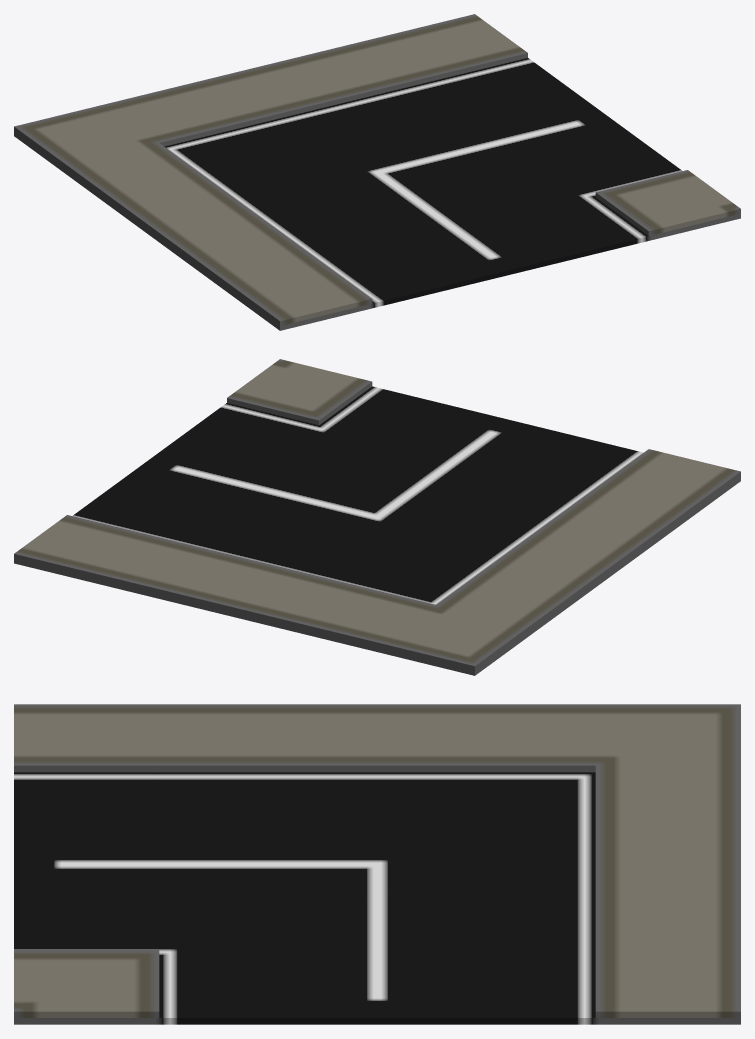
File: Carretera10.fbx
3 views of the same model, one above another, from view 1: azimuth 30°, elevation 25°; view 2: azimuth 150°, elevation 25°; view 3: azimuth 270°, elevation 25° (orthographic). The views are drawn at different scales.
Visible parts, largest first — view 1: Carretera10; view 2: Carretera10; view 3: Carretera10.
Boxes of the visible parts, box(x1,y1,x2,y2) form: Carretera10: box(14, 14, 740, 330); Carretera10: box(14, 359, 740, 675); Carretera10: box(14, 704, 740, 1024).
Bounding box in the file's own units: 100 × 2 × 100.
